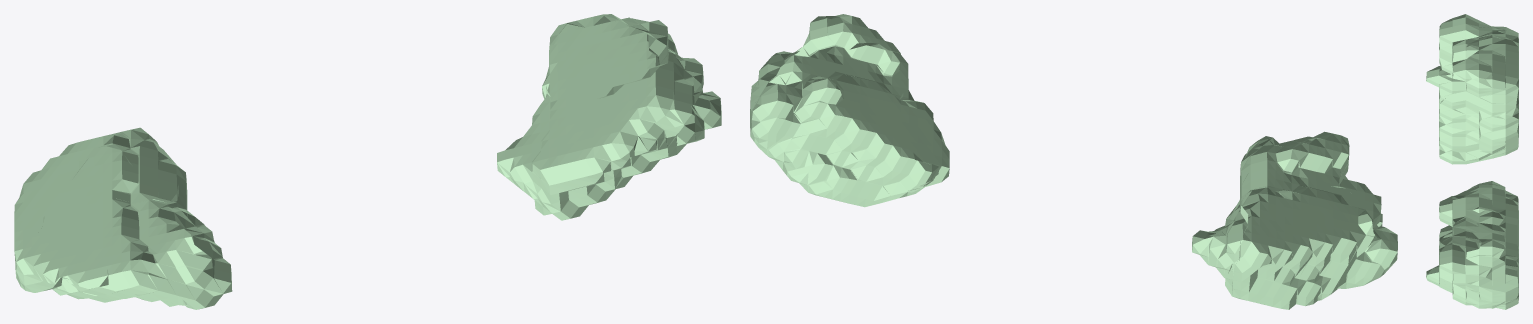
Rendered from VFB_00102213.glb.
3 views of the same model, side by side, from view 1: azimuth 30°, elevation 25°; view 2: azimuth 150°, elevation 25°; view 3: azimuth 270°, elevation 25° (orthographic). The views are drawn at different scales.
Visible parts, largest first — view 1: VFB_00102213; view 2: VFB_00102213; view 3: VFB_00102213.
Boxes of the visible parts, bbox=[...] form: VFB_00102213: bbox=[14, 14, 721, 309]; VFB_00102213: bbox=[750, 14, 1397, 309]; VFB_00102213: bbox=[1426, 14, 1518, 309].
Bounding box in the file's own units: 0.162 × 0.0375 × 0.0274.
